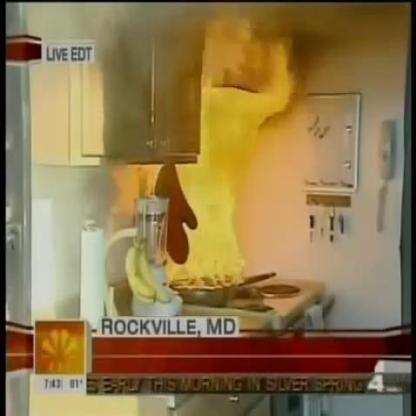fire: (162, 14, 292, 294)
